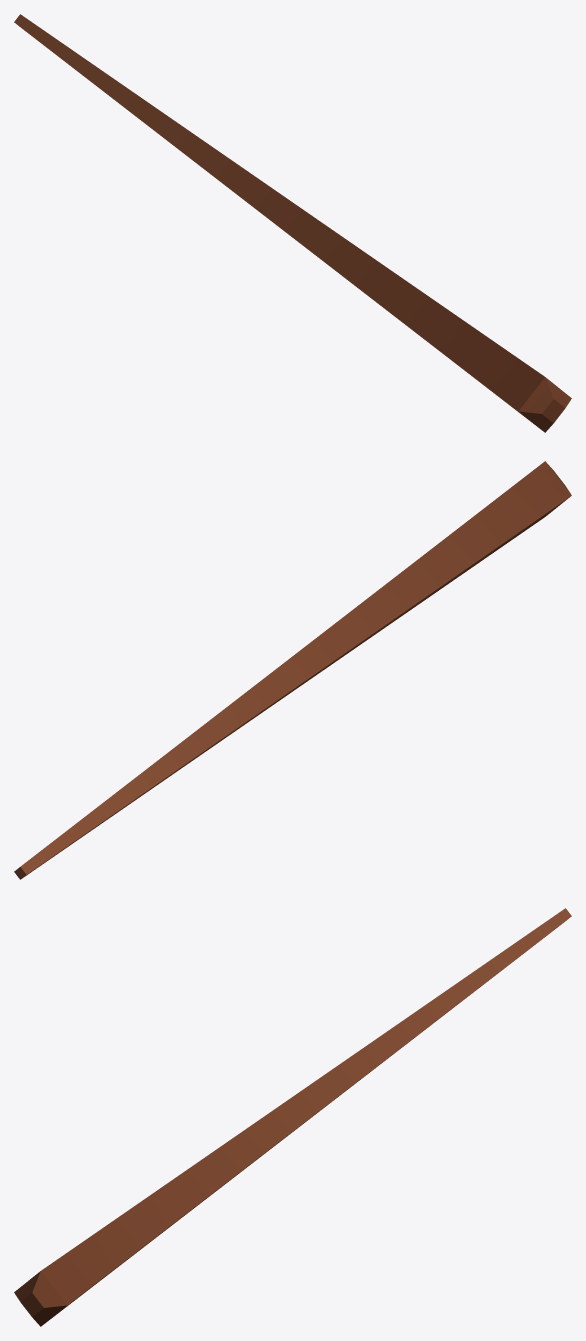
Rendered from Wand1.fbx.
The picture shows the model from 3 angles, top to bottom: view 1: azimuth 30°, elevation 25°; view 2: azimuth 150°, elevation 25°; view 3: azimuth 330°, elevation 25°; orthographic projection.
Visible parts, largest first — view 1: Wand1; view 2: Wand1; view 3: Wand1.
Boxes of the visible parts, x1,y1,x2,y2 form: Wand1: (14,14,571,432); Wand1: (14,461,571,879); Wand1: (14,908,571,1326).
Bounding box in the file's own units: 2 × 2 × 34.54.
